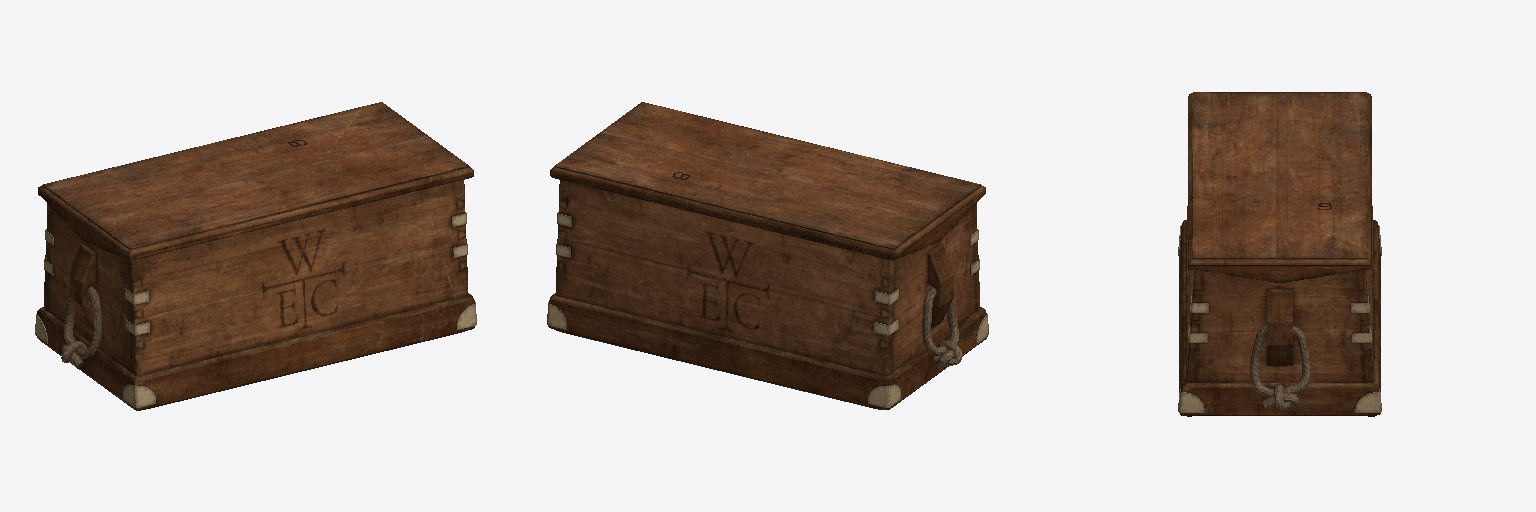
3 views of the same model, side by side, from view 1: azimuth 30°, elevation 25°; view 2: azimuth 150°, elevation 25°; view 3: azimuth 270°, elevation 25° (orthographic).
Visible parts, largest first — view 1: wooden_crate_02_crate; view 2: wooden_crate_02_crate; view 3: wooden_crate_02_crate.
Part boxes in pixels (x1,y1,x2,y2): wooden_crate_02_crate: (35, 102, 476, 410); wooden_crate_02_crate: (547, 102, 988, 409); wooden_crate_02_crate: (1178, 92, 1381, 416).
Size of the model in its own units: 1.17 by 0.464 by 0.5291.
1 materials, 1 textured.